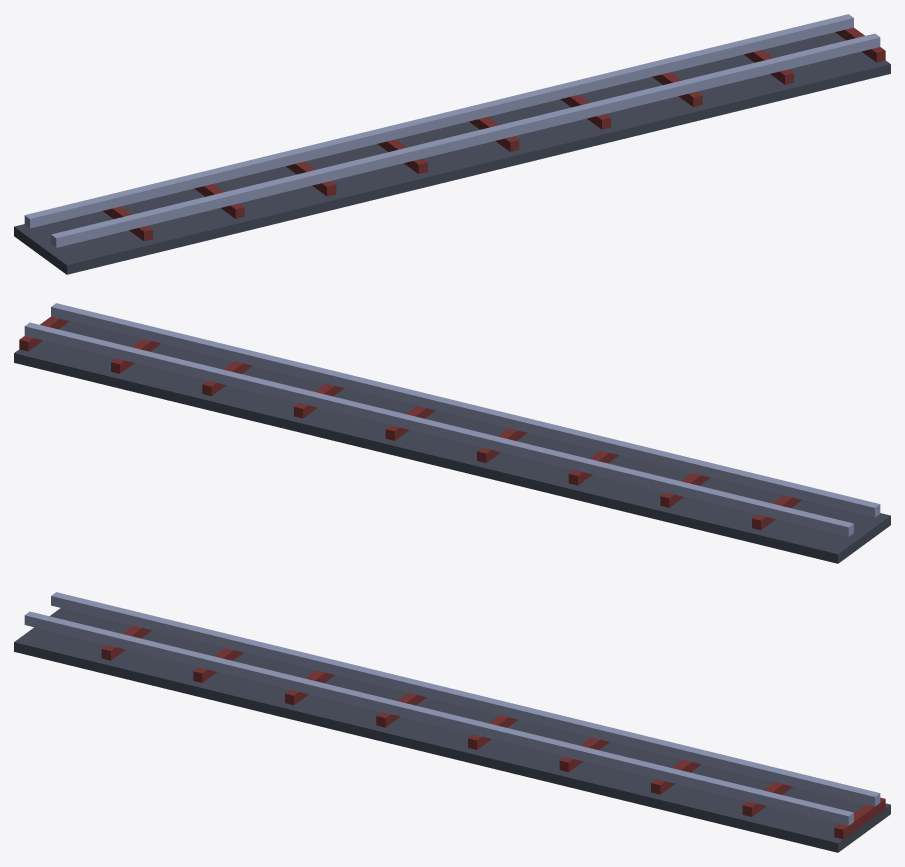
The model's file is Railway.obj.
3 views of the same model, one above another, from view 1: azimuth 30°, elevation 25°; view 2: azimuth 150°, elevation 25°; view 3: azimuth 330°, elevation 25° (orthographic).
Parts seen in each view (by area): view 1: Railway; view 2: Railway; view 3: Railway.
Part boxes in pixels (x1,y1,x2,y2): Railway: [14, 14, 890, 274]; Railway: [14, 303, 890, 563]; Railway: [14, 592, 890, 852].
Bounding box in the file's own units: 90 × 3 × 10.
